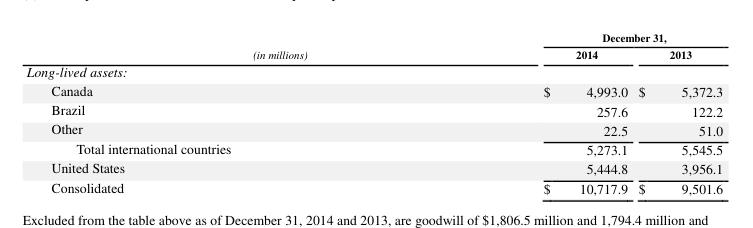table: (25, 28, 722, 196)
table column: (25, 28, 424, 196), (424, 28, 632, 196), (632, 28, 722, 196)
table column header: (25, 28, 722, 62)
table projected row header: (25, 62, 722, 79)
table row: (25, 79, 722, 99), (25, 99, 722, 119), (25, 157, 722, 177), (25, 119, 722, 138), (25, 138, 722, 157), (25, 177, 722, 196), (25, 28, 722, 45), (25, 45, 722, 62), (25, 62, 722, 79)
table spanning cell: (25, 28, 424, 62), (424, 28, 722, 45)
